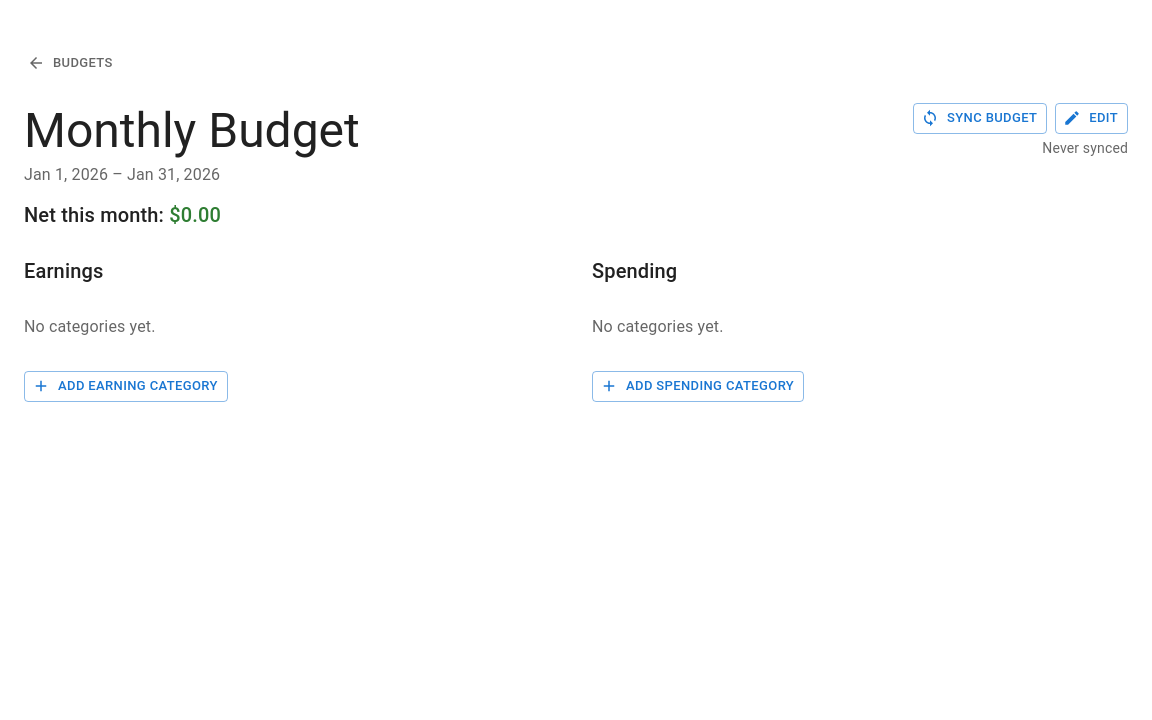
it: BudgetDetailPage add category › closes the dialog on Cancel without creating a line
The width and height of the screenshot is (1152, 720).
Check: the heading "Monthly Budget" is shown, box [24,103,360,159]
Click the button "Add earning category".
click(126, 386)  # box [24,371,228,402]
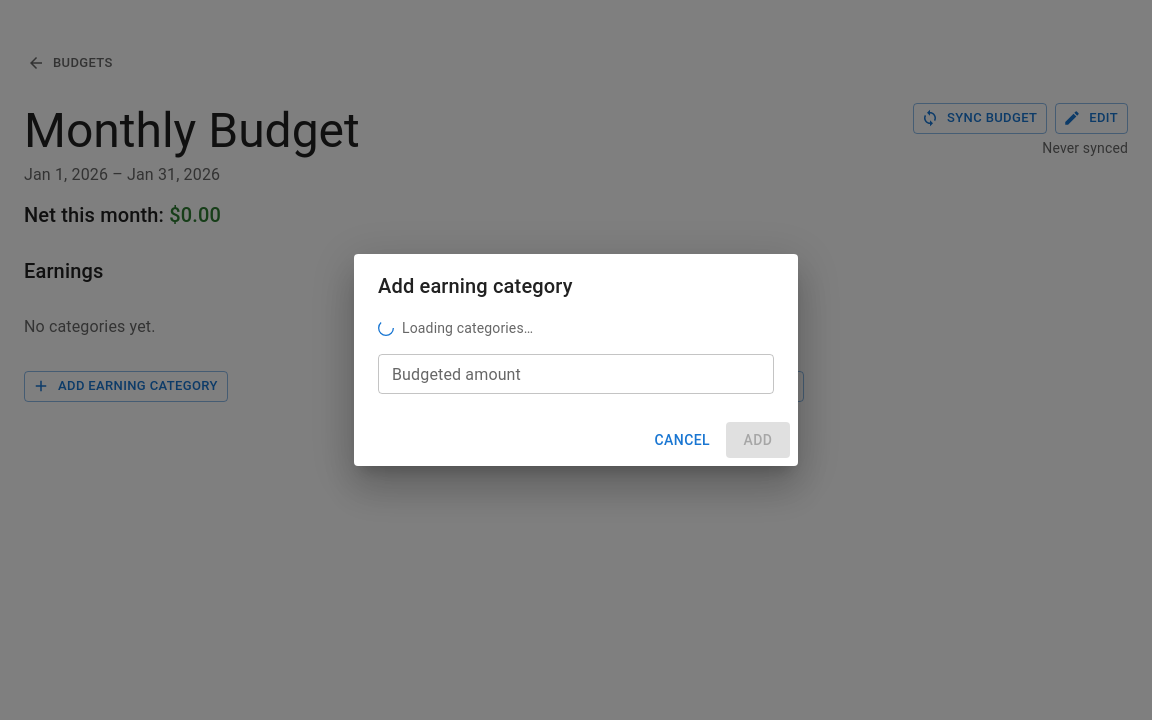
Check: the heading "Add earning category" is shown, box [378,274,573,298]
Click the button "Cancel".
click(682, 440)  # box [646,422,718,458]
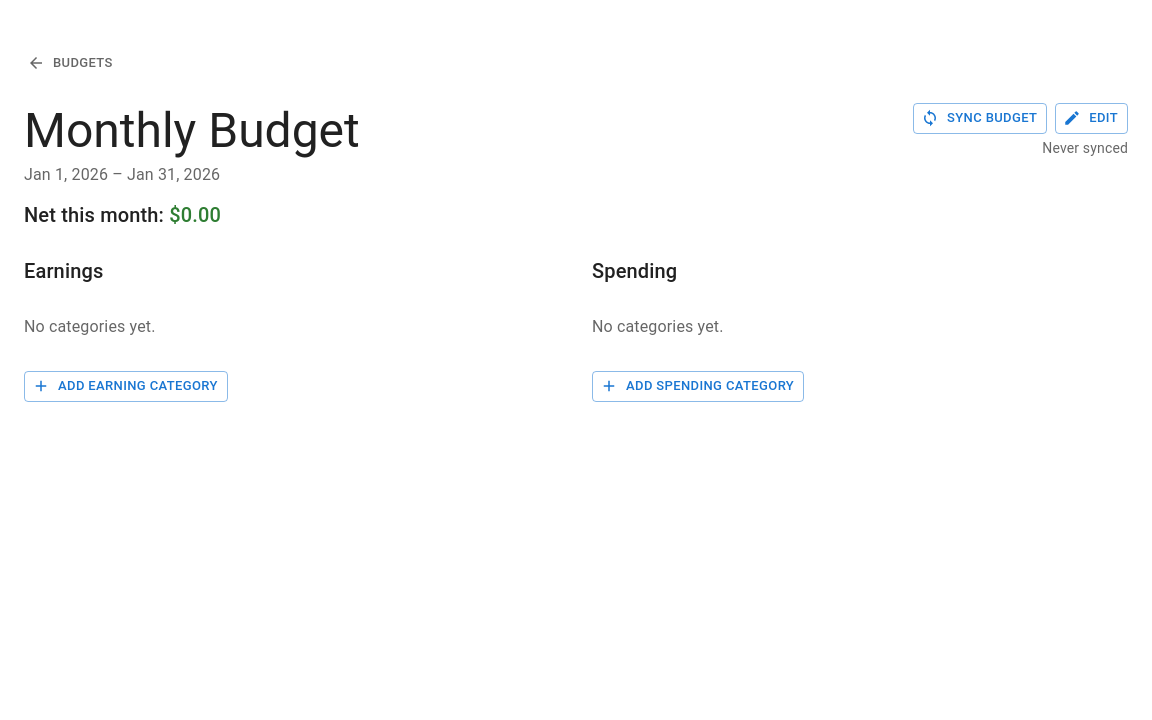
Check: the dialog is gone
Check: the text "No categories yet." is shown 2 times, box [24,317,156,336]; [592,317,724,336]
